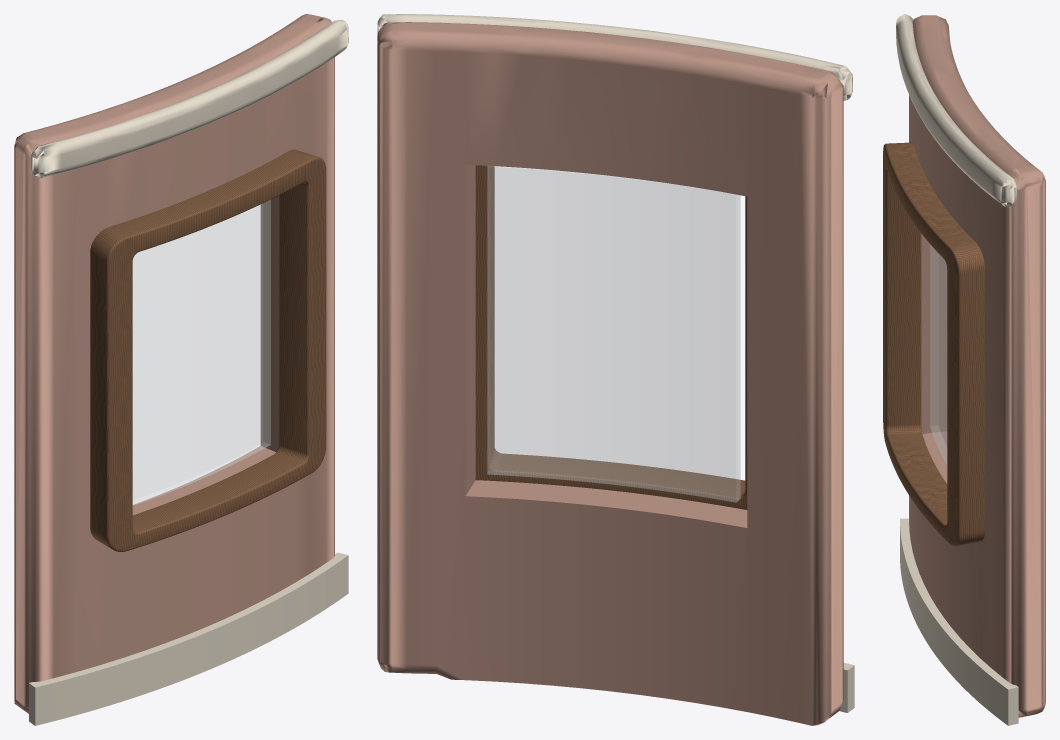
The model's file is ArcWindow_R4_A30.glb.
3 views of the same model, side by side, from view 1: azimuth 30°, elevation 25°; view 2: azimuth 150°, elevation 25°; view 3: azimuth 270°, elevation 25° (orthographic). The views are drawn at different scales.
Visible parts, largest first — view 1: PBK_substrate.001, PBK_Continuous_Frame_Brick_Window.003, PBK_Arc_PBK_glass.002, PBK_Arc_PBK_base_trim.007, PBK_floor_band.001; view 2: PBK_substrate.001, PBK_Arc_PBK_glass.002, PBK_Continuous_Frame_Brick_Window.003, PBK_floor_band.001; view 3: PBK_substrate.001, PBK_Continuous_Frame_Brick_Window.003, PBK_Arc_PBK_base_trim.007, PBK_floor_band.001, PBK_Arc_PBK_glass.002.
Boxes of the visible parts, x1,y1,x2,y2 form: PBK_substrate.001: (14, 14, 334, 713); PBK_Continuous_Frame_Brick_Window.003: (90, 149, 326, 551); PBK_Arc_PBK_glass.002: (133, 199, 270, 505); PBK_Arc_PBK_base_trim.007: (29, 552, 348, 725); PBK_floor_band.001: (31, 20, 348, 177); PBK_substrate.001: (377, 22, 843, 725); PBK_Arc_PBK_glass.002: (487, 166, 740, 502); PBK_Continuous_Frame_Brick_Window.003: (475, 165, 747, 509); PBK_floor_band.001: (377, 14, 852, 100); PBK_substrate.001: (909, 15, 1045, 717); PBK_Continuous_Frame_Brick_Window.003: (883, 142, 984, 546); PBK_Arc_PBK_base_trim.007: (900, 518, 1018, 725); PBK_floor_band.001: (896, 14, 1016, 207); PBK_Arc_PBK_glass.002: (930, 244, 946, 464).
Bounding box in the file's own units: 2.02 × 3 × 0.8145.
Materials: 4 (1 with a texture image).
